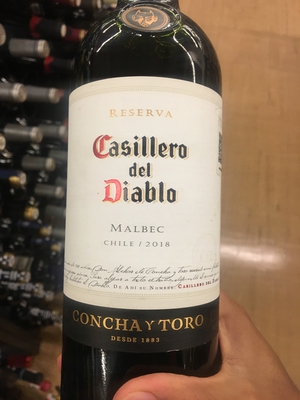casillero del diablo malbec: (56, 7, 231, 400)
